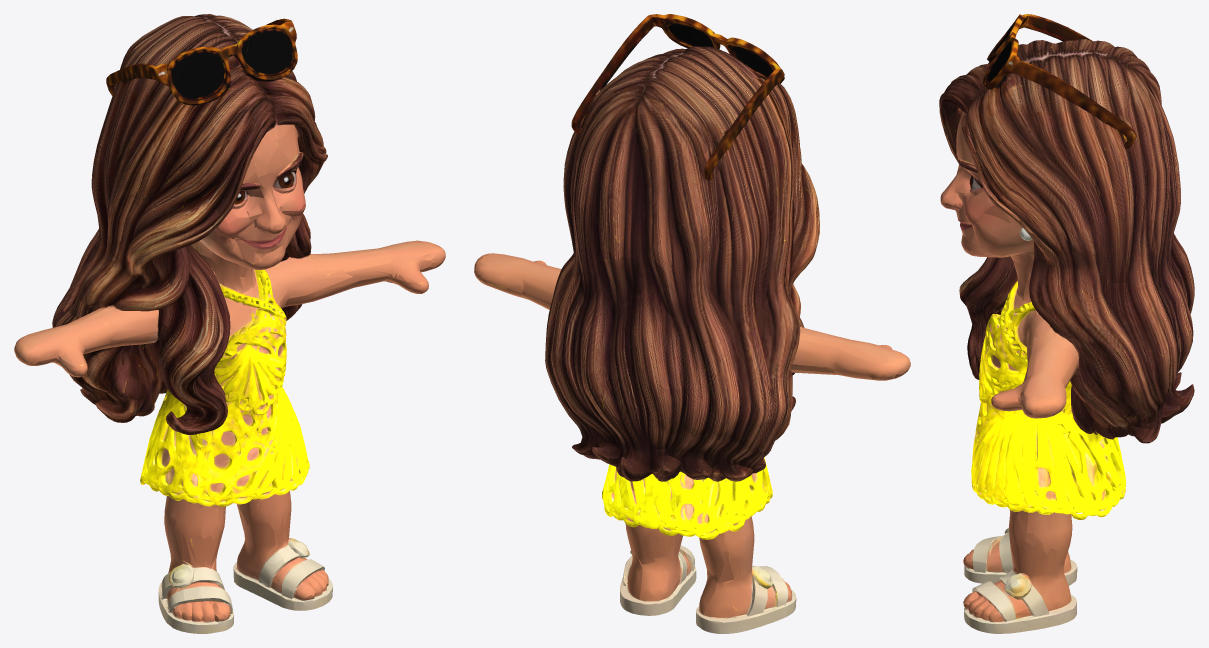
File: pau_src.glb
3 views of the same model, side by side, from view 1: azimuth 30°, elevation 25°; view 2: azimuth 150°, elevation 25°; view 3: azimuth 270°, elevation 25° (orthographic). The views are drawn at different scales.
Parts seen in each view (by area): view 1: Mesh_0; view 2: Mesh_0; view 3: Mesh_0.
Part boxes in pixels (<box>): Mesh_0: <box>14,14,445,633</box>; Mesh_0: <box>474,14,910,633</box>; Mesh_0: <box>939,14,1194,633</box>.
Size of the model in its own units: 1.48 by 1.9 by 0.7797.
1 material, 1 textured.
